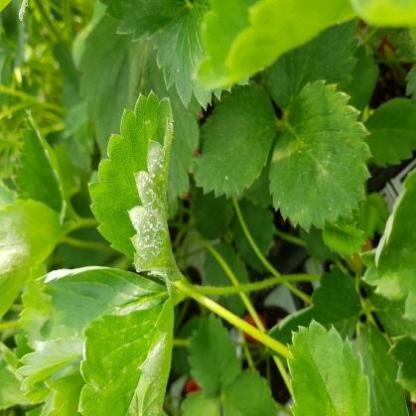Strawberry_Powdery_Mildew_Leaf: (87, 88, 188, 284), (76, 289, 176, 415)
